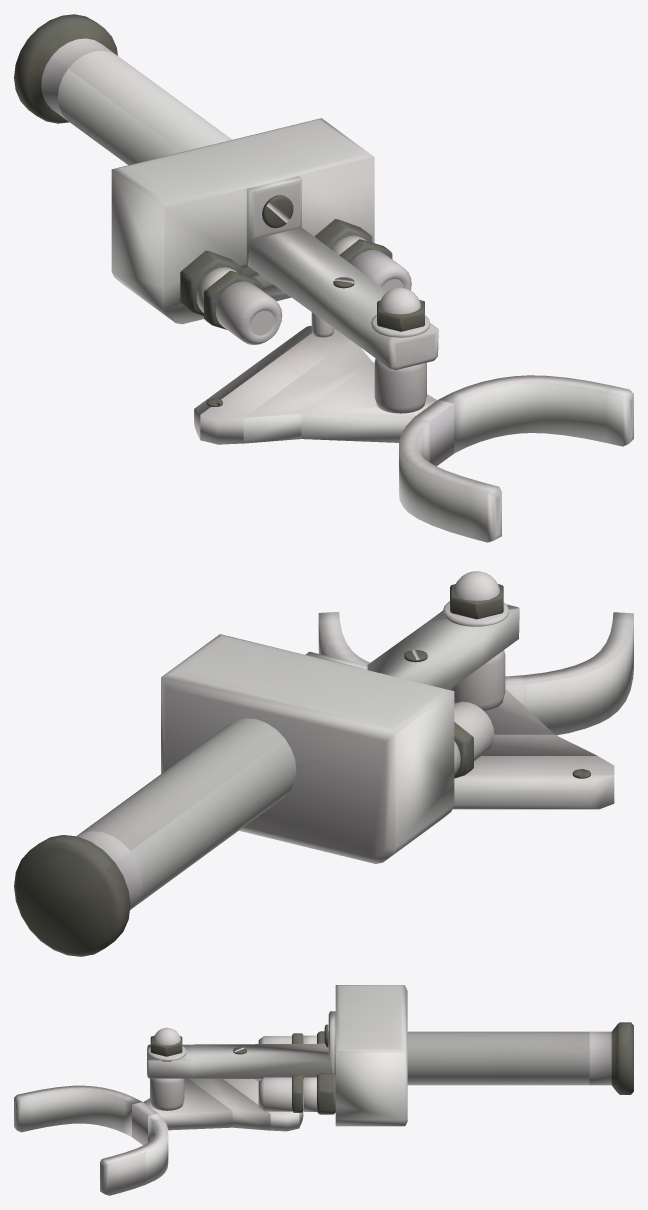
Rendered from knee_control.obj.
The picture shows the model from 3 angles, top to bottom: view 1: azimuth 30°, elevation 25°; view 2: azimuth 150°, elevation 25°; view 3: azimuth 270°, elevation 25°; orthographic projection. The views are drawn at different scales.
Parts seen in each view (by area): view 1: knee_control.obj; view 2: knee_control.obj; view 3: knee_control.obj.
Part boxes in pixels (left/top/right/bottom): knee_control.obj: left=14, top=14, right=633, bottom=542; knee_control.obj: left=14, top=571, right=633, bottom=956; knee_control.obj: left=14, top=985, right=633, bottom=1195.
Size of the model in its own units: 2.46 by 1.22 by 5.75.
